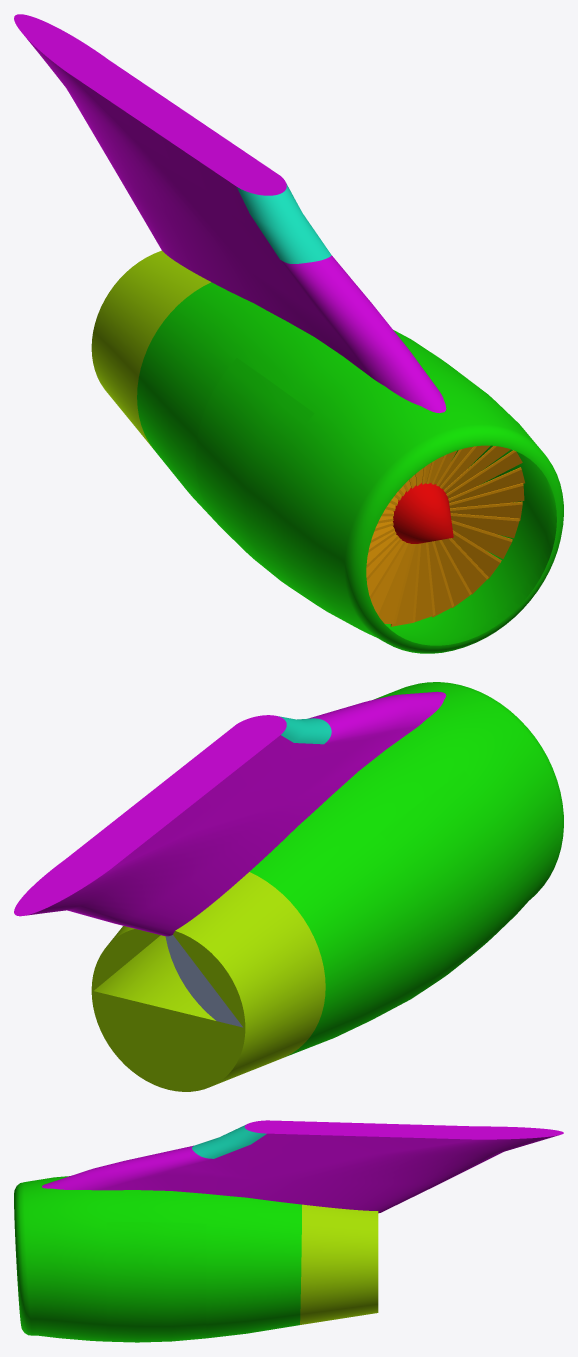
3 views of the same model, one above another, from view 1: azimuth 30°, elevation 25°; view 2: azimuth 150°, elevation 25°; view 3: azimuth 270°, elevation 25° (orthographic). The views are drawn at different scales.
Parts seen in each view (by area): view 1: Cylinder.005; view 2: Cylinder.005; view 3: Cylinder.005.
Part boxes in pixels (bbox=[...]): Cylinder.005: bbox=[14, 14, 563, 653]; Cylinder.005: bbox=[14, 682, 563, 1091]; Cylinder.005: bbox=[14, 1120, 563, 1342].
Bounding box in the file's own units: 192 × 261 × 627.
